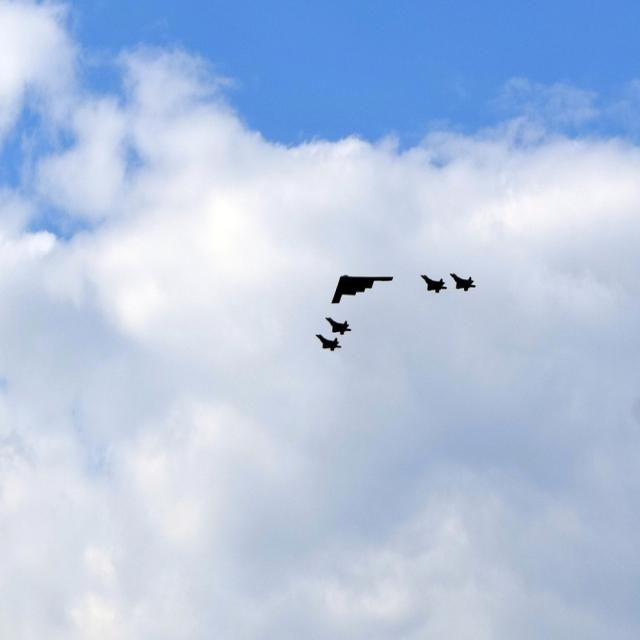MIL_Plane: (331, 275, 394, 304), (324, 316, 352, 336), (449, 272, 477, 292), (420, 274, 448, 294), (315, 333, 342, 352)
